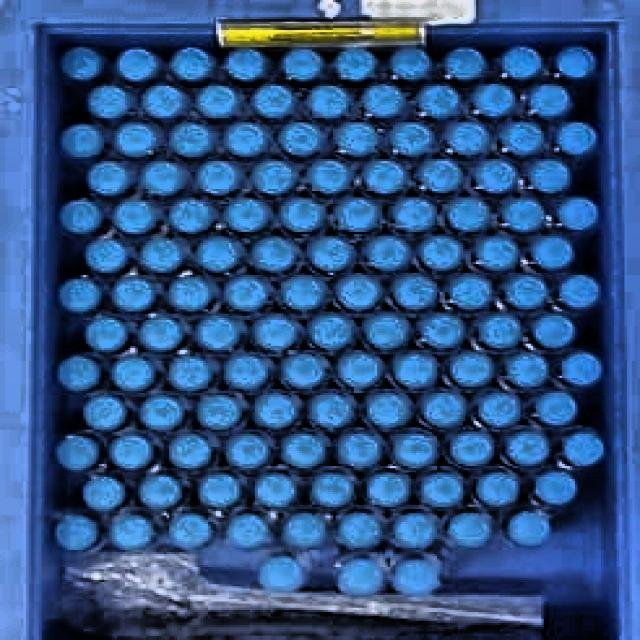vial: (334, 557, 387, 596), (495, 43, 547, 81), (223, 431, 273, 470), (391, 558, 440, 597), (388, 511, 437, 550), (444, 511, 493, 549), (504, 430, 551, 469), (334, 274, 381, 313), (113, 46, 162, 83), (220, 198, 270, 234), (504, 508, 551, 546), (138, 315, 185, 353), (333, 197, 381, 234), (196, 394, 244, 431), (107, 434, 156, 470), (246, 83, 295, 119), (193, 158, 238, 197), (304, 159, 354, 194), (57, 355, 103, 393), (305, 393, 352, 430), (365, 391, 412, 428), (137, 238, 184, 275), (277, 119, 324, 156), (164, 357, 212, 393), (391, 276, 439, 312), (415, 84, 463, 120), (471, 81, 516, 119), (112, 120, 157, 158), (194, 473, 241, 509), (139, 475, 186, 511), (193, 237, 240, 273), (308, 237, 355, 273), (278, 199, 325, 235), (475, 392, 523, 427), (529, 236, 577, 271), (166, 122, 214, 157), (338, 351, 381, 390), (224, 513, 268, 551), (393, 433, 437, 471), (390, 199, 439, 233), (168, 433, 213, 470), (449, 432, 494, 469), (561, 430, 606, 467), (556, 120, 601, 157), (114, 198, 159, 235), (473, 472, 519, 508), (110, 356, 156, 392), (530, 313, 577, 348), (473, 238, 520, 273), (339, 511, 381, 550), (54, 514, 98, 551), (281, 432, 325, 469), (54, 435, 98, 472), (140, 394, 184, 431), (558, 274, 602, 311), (420, 312, 464, 349), (250, 160, 294, 197), (366, 235, 411, 271), (110, 276, 155, 312), (169, 277, 214, 313), (390, 121, 435, 157), (194, 83, 239, 119), (142, 83, 187, 119), (364, 472, 410, 507), (251, 237, 297, 272), (553, 43, 599, 78), (442, 46, 488, 81), (86, 84, 132, 119), (221, 277, 268, 311), (223, 46, 270, 80), (280, 353, 323, 390), (111, 515, 155, 551), (83, 396, 127, 432), (223, 122, 267, 158), (337, 434, 382, 469), (224, 354, 269, 389), (362, 159, 407, 194), (531, 392, 580, 424), (308, 474, 354, 508), (396, 352, 438, 389), (141, 160, 183, 197), (417, 473, 464, 506), (478, 313, 521, 349), (84, 316, 127, 352), (171, 45, 214, 81), (332, 46, 375, 82), (561, 351, 605, 386), (194, 315, 238, 350), (418, 158, 462, 193), (526, 84, 570, 119), (334, 123, 378, 158), (389, 45, 433, 80), (167, 199, 211, 234), (305, 86, 353, 118), (532, 471, 578, 504), (59, 124, 105, 157), (83, 476, 124, 513), (283, 45, 324, 82), (255, 394, 297, 430), (449, 274, 491, 310), (366, 314, 409, 349), (474, 158, 517, 193), (445, 198, 489, 232), (361, 84, 405, 118), (59, 47, 103, 81), (284, 512, 324, 549), (260, 557, 301, 593), (87, 161, 128, 197), (423, 391, 465, 426), (451, 353, 493, 388), (505, 275, 547, 310), (58, 200, 100, 235), (417, 238, 460, 272), (56, 278, 99, 312), (172, 513, 213, 548), (558, 196, 599, 231), (502, 199, 544, 233), (281, 276, 323, 310), (502, 121, 544, 155), (84, 240, 127, 273), (529, 159, 572, 192), (253, 319, 298, 350), (507, 353, 548, 387), (253, 475, 295, 507), (447, 122, 489, 154), (311, 317, 350, 351)
